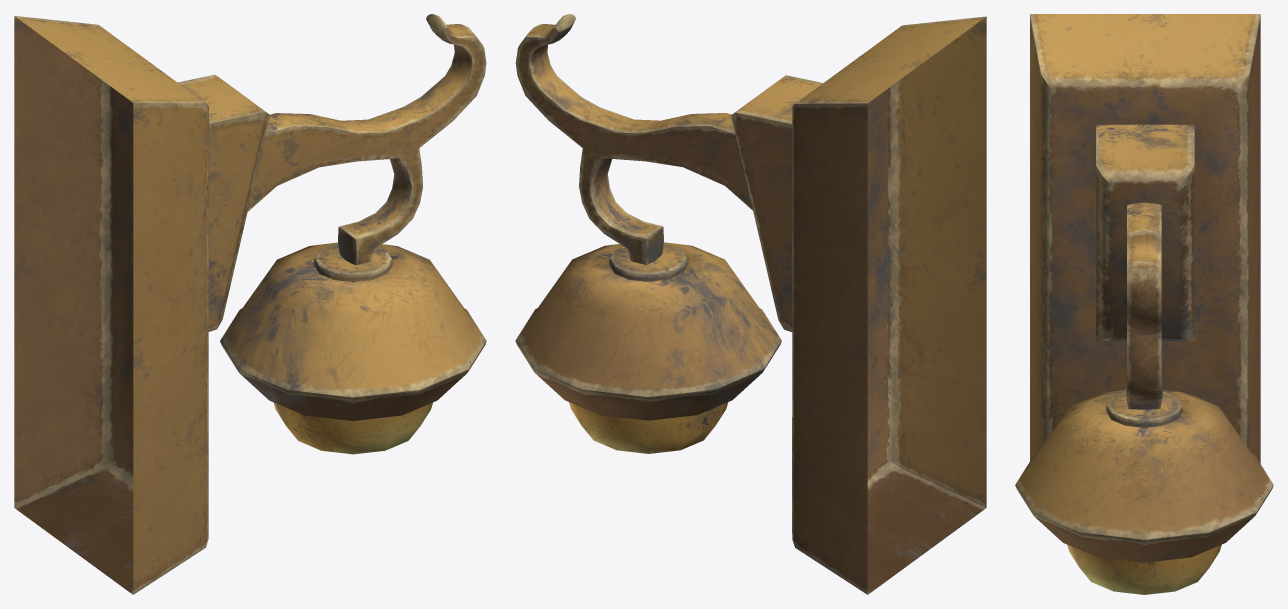
Rendered from Light_01.fbx.
3 views of the same model, side by side, from view 1: azimuth 30°, elevation 25°; view 2: azimuth 150°, elevation 25°; view 3: azimuth 270°, elevation 25° (orthographic). The views are drawn at different scales.
Visible parts, largest first — view 1: Light_01; view 2: Light_01; view 3: Light_01.
Boxes of the visible parts, bbox=[...] form: Light_01: bbox=[14, 14, 486, 594]; Light_01: bbox=[515, 14, 986, 594]; Light_01: bbox=[1015, 14, 1273, 594].
Size of the model in its own units: 41.83 by 48.41 by 23.79.
